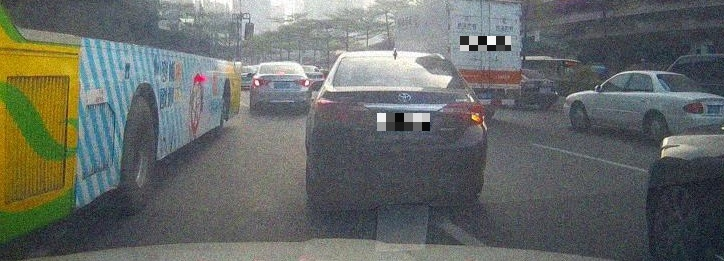L_light: (314, 99, 366, 124), (253, 79, 266, 86)
R_light: (439, 101, 485, 127), (297, 79, 310, 86)
T_light: (385, 81, 414, 87), (276, 71, 285, 75)
day-brake: (251, 61, 310, 112)
day-right: (312, 50, 487, 208)
plate_1: (377, 113, 430, 131)
plate_2: (460, 36, 511, 51)
